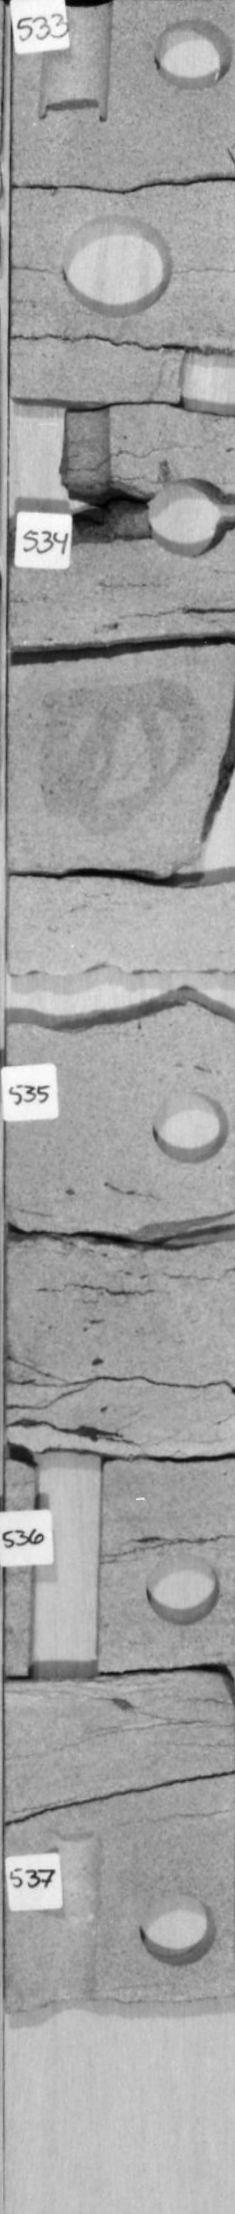hplug: (129, 1884, 224, 1974), (137, 472, 235, 558), (149, 11, 235, 99), (149, 1084, 232, 1169), (142, 1549, 224, 1631)
scal: (50, 206, 183, 323)
vplug: (18, 1437, 109, 1690), (45, 394, 123, 561), (35, 1824, 103, 2011), (28, 1, 127, 124)
